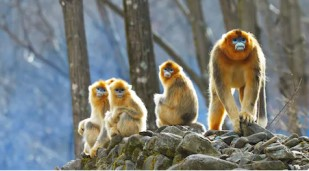GoldenSnub-Nosed: (204, 27, 270, 139), (157, 56, 201, 133), (78, 78, 112, 157), (108, 78, 148, 142)
